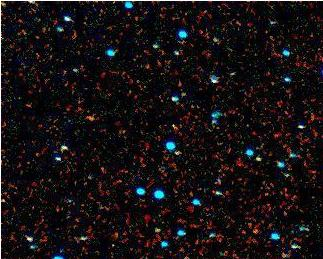star: (241, 219, 271, 249)
